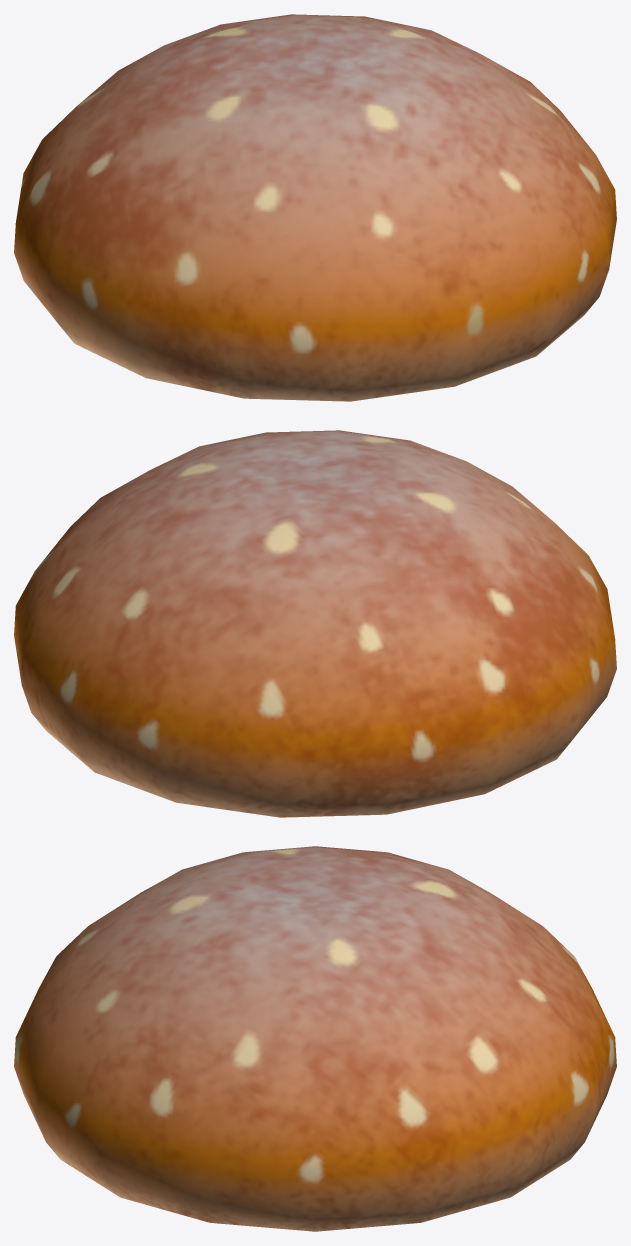
File: Higher bun_Burger.fbx
The picture shows the model from 3 angles, top to bottom: view 1: azimuth 30°, elevation 25°; view 2: azimuth 150°, elevation 25°; view 3: azimuth 270°, elevation 25°; orthographic projection.
Parts seen in each view (by area): view 1: BUN; view 2: BUN; view 3: BUN.
Part boxes in pixels (x1,y1,x2,y2): BUN: (14, 14, 616, 401); BUN: (14, 430, 616, 817); BUN: (14, 846, 616, 1231).
Size of the model in its own units: 19.08 by 8.2 by 19.08.
